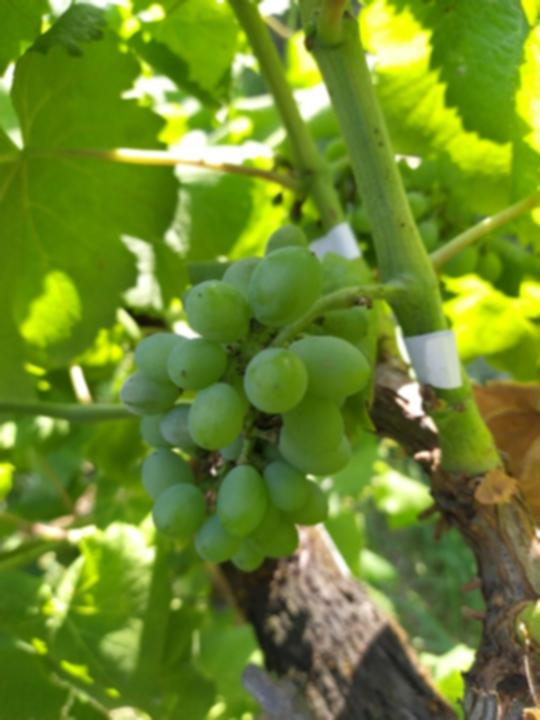grape: (118, 224, 371, 576)
